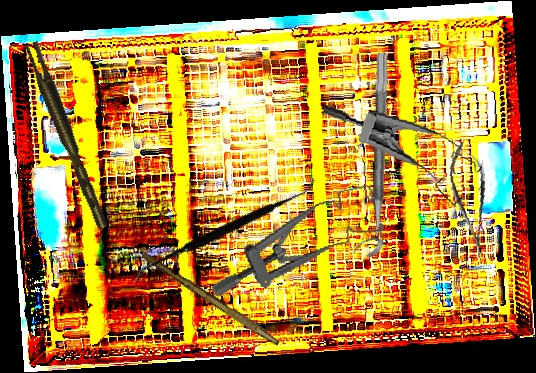Fixation Ring: (352, 52, 390, 258)
Micro Scissor: (445, 139, 496, 260)
Scalpel Handle: (139, 250, 283, 347)
Spatula Surgical: (132, 126, 319, 338)
Speculum: (196, 181, 393, 301), (313, 102, 488, 209)
Tissue Forceps: (24, 39, 108, 233)
